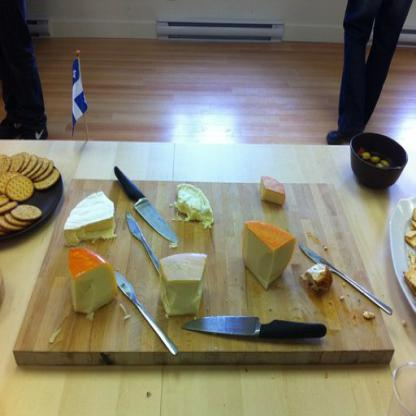cheese: (67, 248, 121, 317), (243, 219, 294, 292), (158, 257, 206, 316)
cookie: (0, 154, 47, 228)
